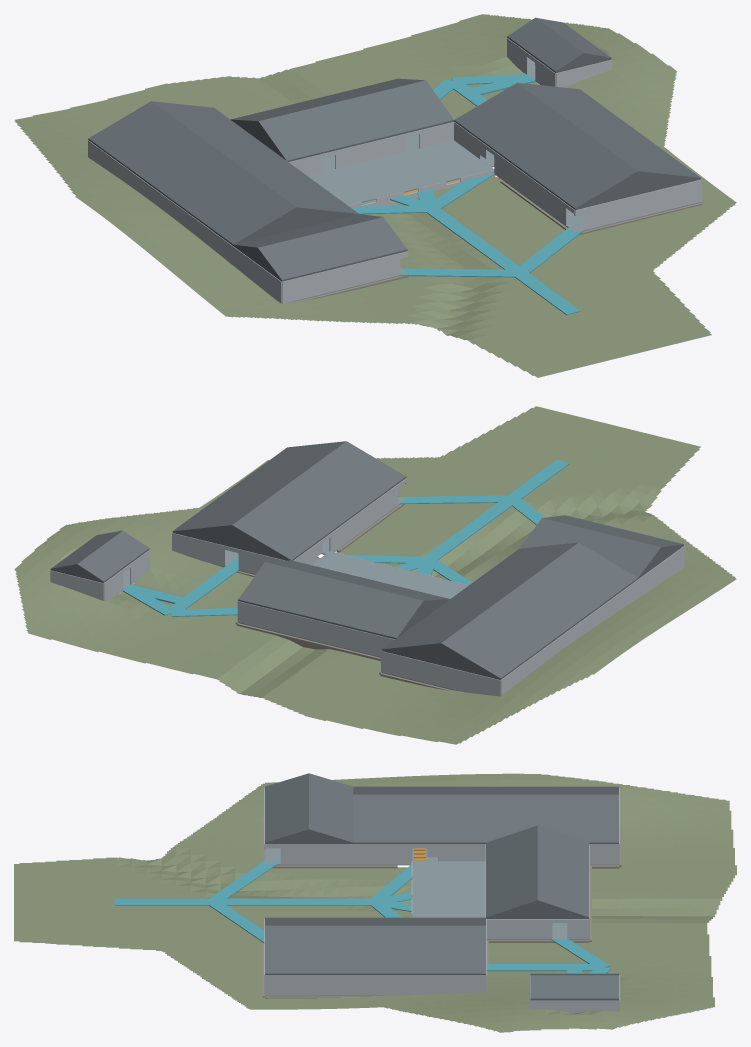
The model's file is enclosed-roofs.glb.
The picture shows the model from 3 angles, top to bottom: view 1: azimuth 30°, elevation 25°; view 2: azimuth 150°, elevation 25°; view 3: azimuth 270°, elevation 25°; orthographic projection. The views are drawn at different scales.
Parts seen in each view (by area): view 1: Saved editor circulation terrain WLD-08, dormitory-and-mess roof west, radio-records roof south, laboratory roof west, generator-building roof west, stores roof south, dormitory-and-mess roof east, laboratory roof east, generator-building roof east, Flat route shell Wall mess S, Flat route shell Wall store S, remote-shelter roof west (+25 smaller); view 2: Saved editor circulation terrain WLD-08, dormitory-and-mess roof west, radio-records roof north, generator-building roof west, laboratory roof west, dormitory-and-mess roof east, stores roof north, generator-building roof east, laboratory roof east, Wall generator N, remote-shelter roof west, Wall records N (+18 smaller); view 3: Saved editor circulation terrain WLD-08, dormitory-and-mess roof east, laboratory roof east, generator-building roof east, radio-records roof north, radio-records roof south, Wall dorm E, stores roof north, stores roof south, remote-shelter roof east, dormitory-and-mess roof west, Wall mess E (+22 smaller).
Boxes of the visible parts, x1,y1,x2,y2 form: Saved editor circulation terrain WLD-08: (14,14,736,377); dormitory-and-mess roof west: (454,83,637,209); radio-records roof south: (258,80,454,161); laboratory roof west: (161,154,296,245); generator-building roof west: (88,101,223,192); stores roof south: (257,217,407,281); dormitory-and-mess roof east: (517,82,700,178); laboratory roof east: (224,154,358,214); generator-building roof east: (152,101,286,160); Flat route shell Wall mess S: (575,179,701,230); Flat route shell Wall store S: (282,251,407,303); remote-shelter roof west: (507,17,583,72); Saved editor circulation terrain WLD-08: (14,406,736,744); dormitory-and-mess roof west: (232,441,406,560); radio-records roof north: (238,562,423,639); generator-building roof west: (441,593,569,679); laboratory roof west: (510,542,638,629); dormitory-and-mess roof east: (172,441,345,532); stores roof north: (519,518,660,578); generator-building roof east: (381,593,508,650); laboratory roof east: (451,542,577,598); Wall generator N: (381,651,500,696); remote-shelter roof west: (77,530,149,582); Wall records N: (237,601,317,641); Saved editor circulation terrain WLD-08: (14,773,736,1032); dormitory-and-mess roof east: (265,925,485,974); laboratory roof east: (353,794,485,844); generator-building roof east: (486,794,618,844); radio-records roof north: (537,825,589,918); radio-records roof south: (486,825,537,918); Wall dorm E: (353,975,485,995); stores roof north: (309,773,353,843); stores roof south: (265,773,308,843); remote-shelter roof east: (530,975,618,999); dormitory-and-mess roof west: (265,917,485,925); Wall mess E: (265,975,353,995).
Bounding box in the file's own units: 83 × 9.24 × 98.
Materials: 38 (19 with a texture image).
